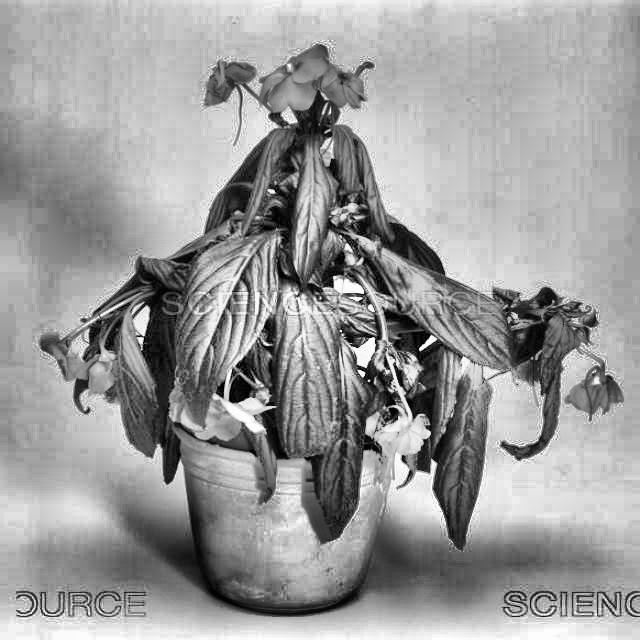plants: (39, 41, 611, 590), (41, 264, 188, 494), (270, 58, 408, 284), (491, 278, 608, 484)
